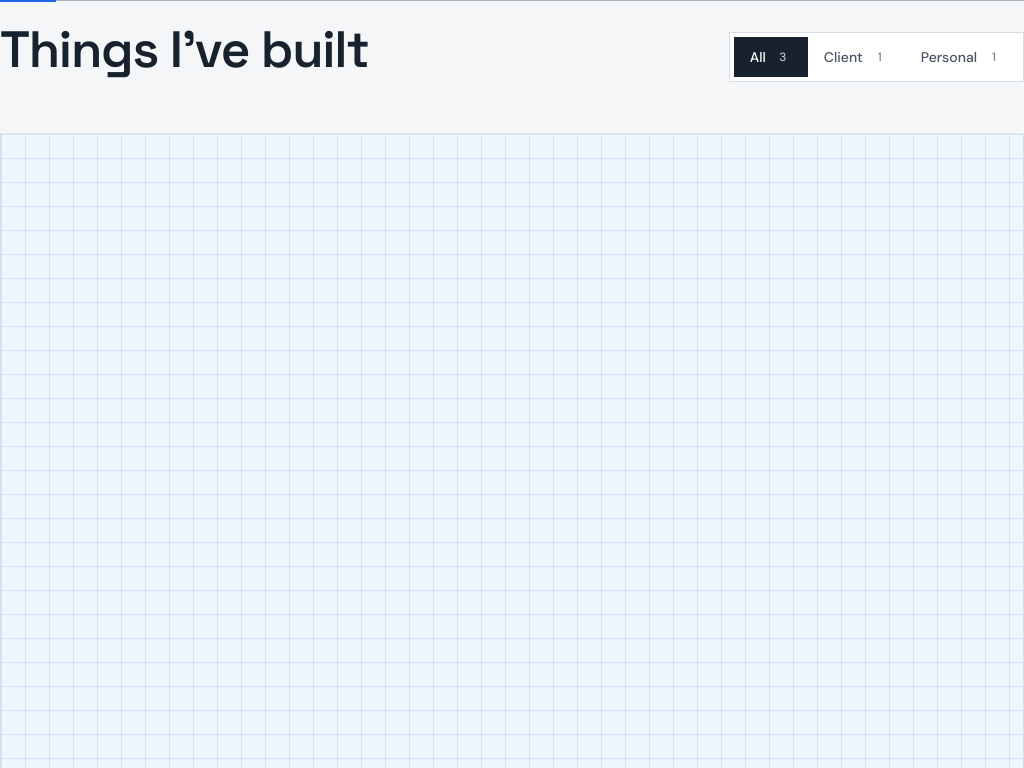
it: Projects › filters the table when a provenance filter is clicked
Click the button "Client 1" at (856, 57), box [808,37,905,77]
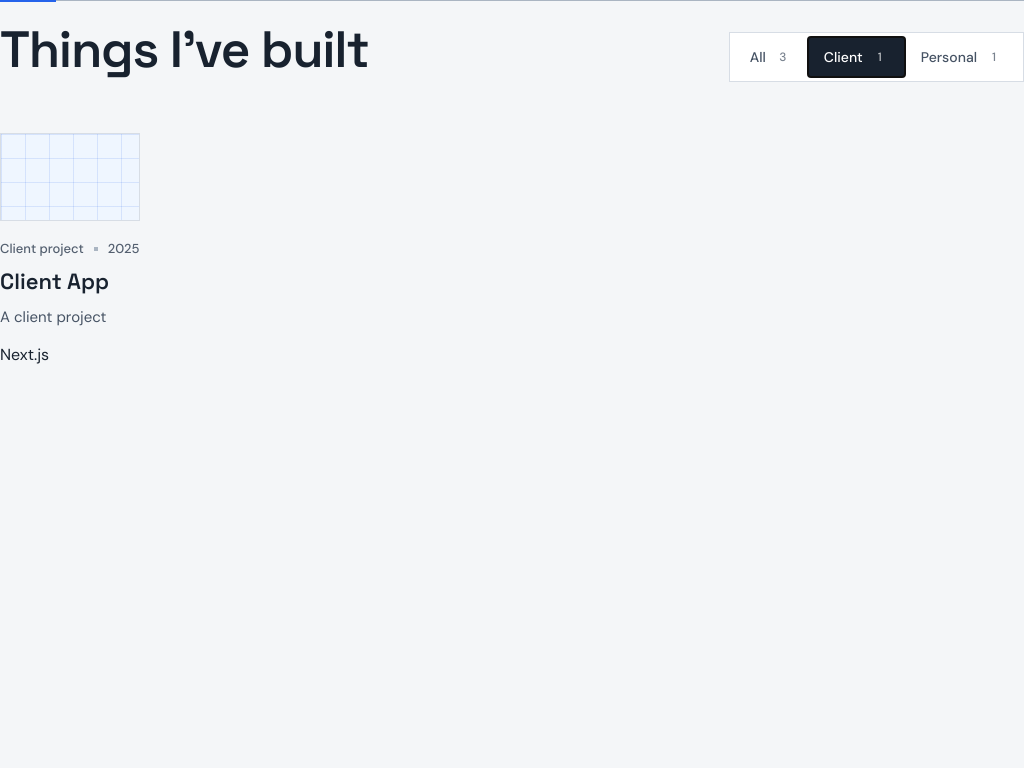
Expected: the heading "Client App" is shown, [0,267,109,295]
